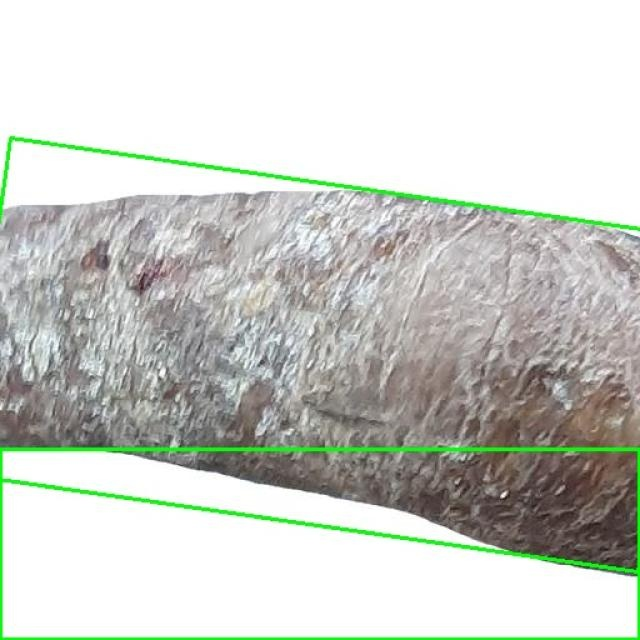Eczema: (0, 139, 640, 572), (0, 449, 639, 639)
